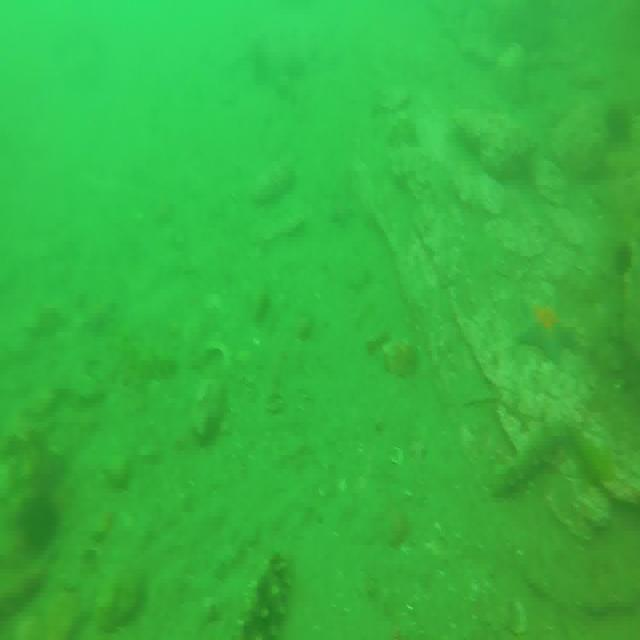echinus: (24, 492, 59, 552)
holothurian: (489, 418, 568, 498), (243, 550, 287, 640)
starfish: (520, 301, 575, 362)
